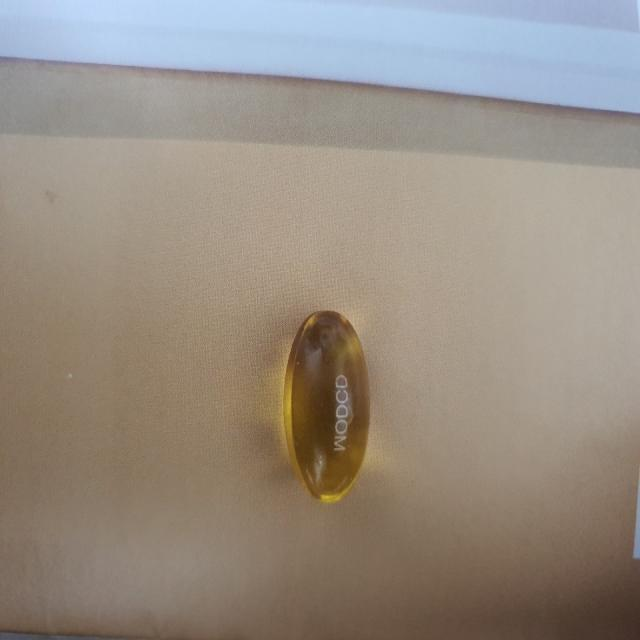pill: (278, 296, 374, 505)
